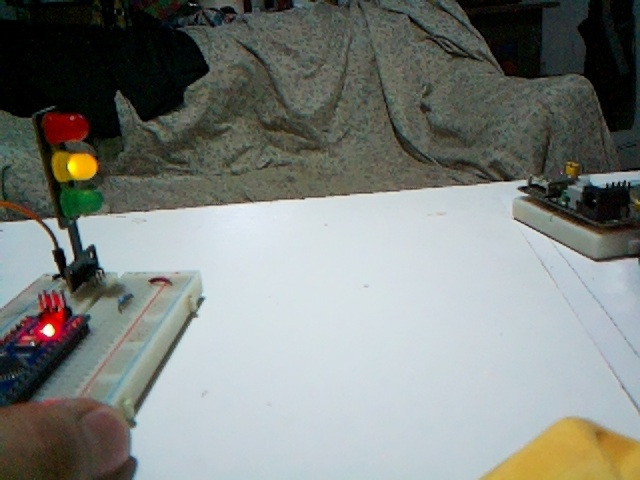traffic_light_yellow: (32, 108, 106, 289)
